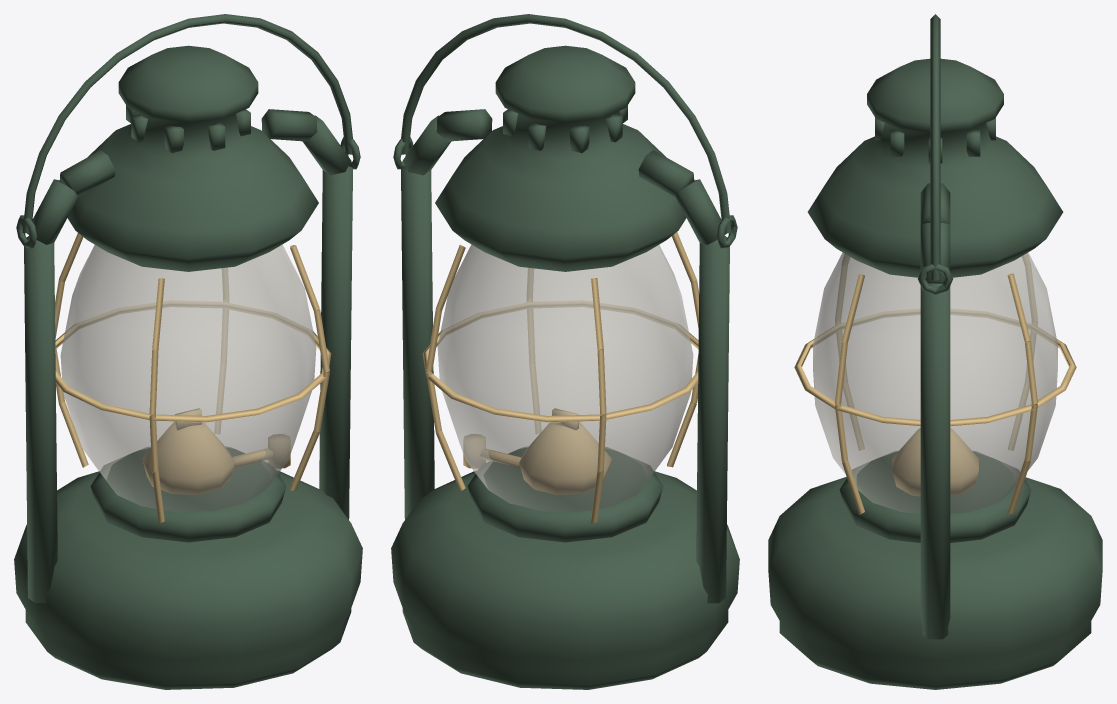
The model's file is hurricane_lantern.glb.
The picture shows the model from 3 angles, left to right: view 1: azimuth 30°, elevation 25°; view 2: azimuth 150°, elevation 25°; view 3: azimuth 270°, elevation 25°; orthographic projection. The views are drawn at different scales.
Visible parts, largest first — view 1: lantern_body, glass; view 2: lantern_body, glass; view 3: lantern_body, glass.
Part boxes in pixels (x1=…): lantern_body: x1=14, y1=14, x2=362, y2=689; glass: x1=60, y1=244, x2=316, y2=512; lantern_body: x1=391, y1=14, x2=739, y2=689; glass: x1=437, y1=244, x2=693, y2=512; lantern_body: x1=768, y1=14, x2=1102, y2=689; glass: x1=813, y1=252, x2=1057, y2=513.
Size of the model in its own units: 0.1644 by 0.2872 by 0.1462.
